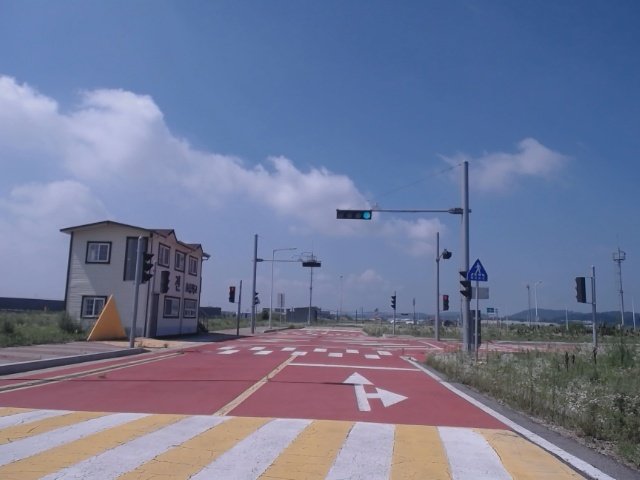straight_green_4: (336, 212, 370, 219)
